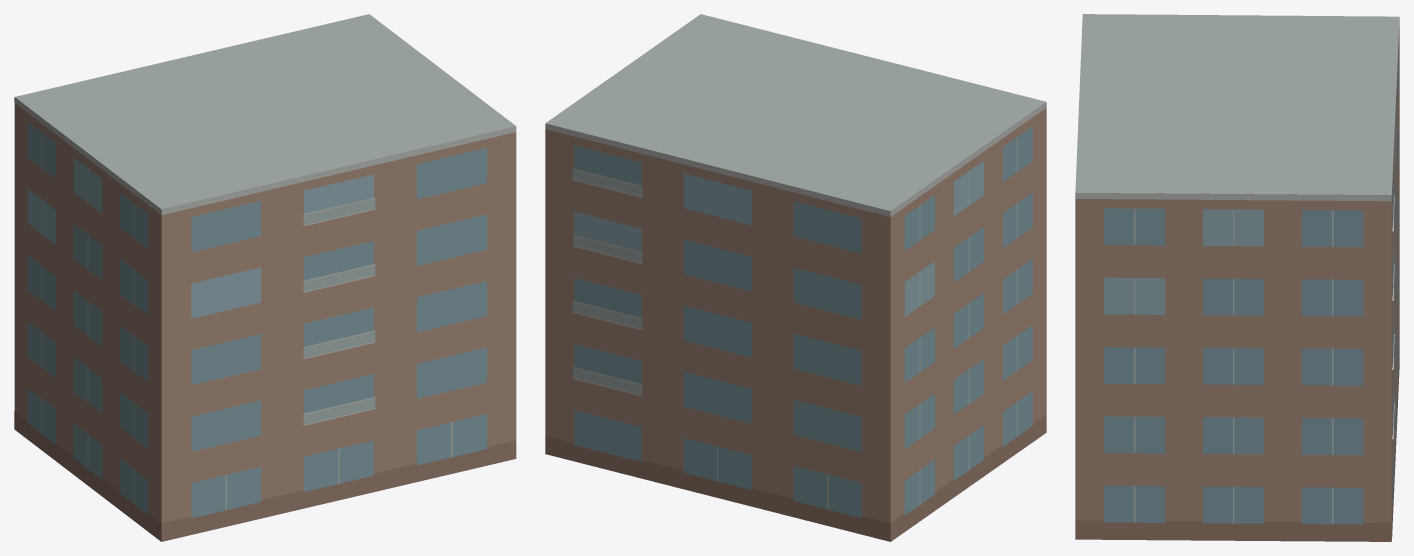
File: survey-upis-32815839.glb
The picture shows the model from 3 angles, left to right: view 1: azimuth 30°, elevation 25°; view 2: azimuth 150°, elevation 25°; view 3: azimuth 270°, elevation 25°; orthographic projection. The views are drawn at different scales.
Visible parts, largest first — view 1: survey-upis-32815839.tmp; view 2: survey-upis-32815839.tmp; view 3: survey-upis-32815839.tmp.
Boxes of the visible parts, x1,y1,x2,y2 form: survey-upis-32815839.tmp: (14,14,516,541); survey-upis-32815839.tmp: (545,14,1046,541); survey-upis-32815839.tmp: (1075,14,1399,541).
Size of the model in its own units: 15.58 by 13.9 by 11.79.
